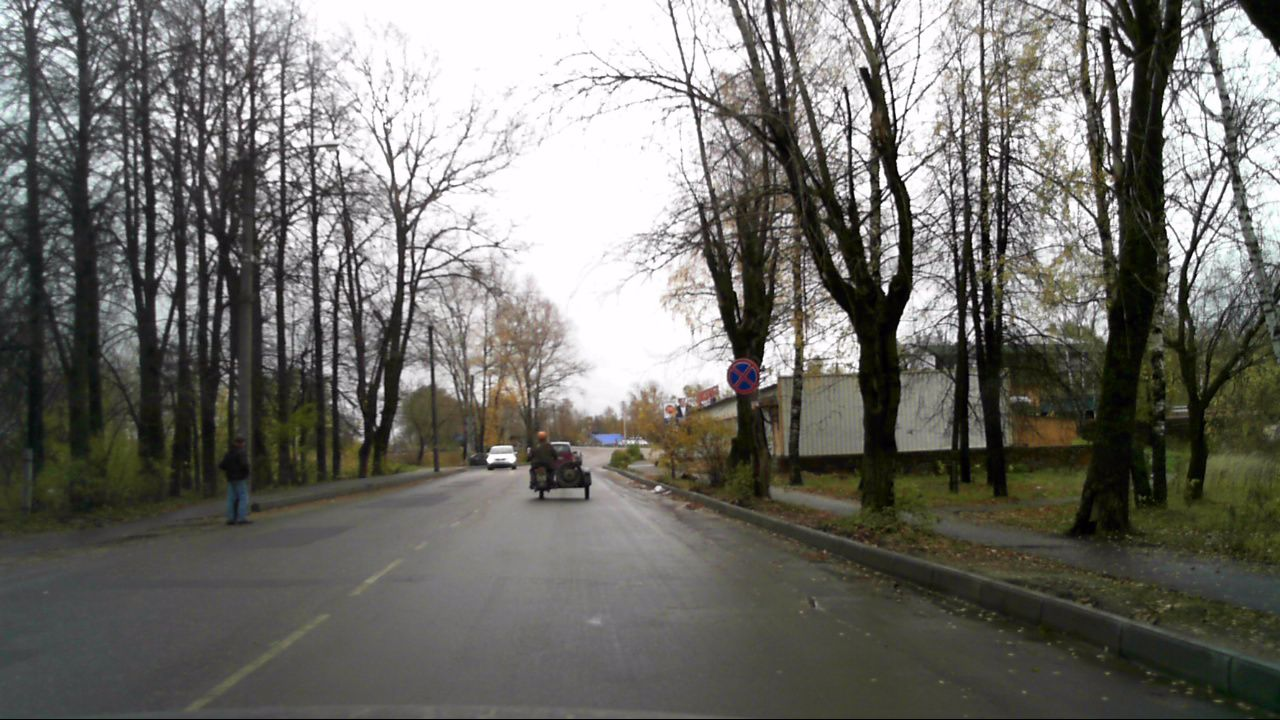No Parking: (725, 358, 761, 395)
